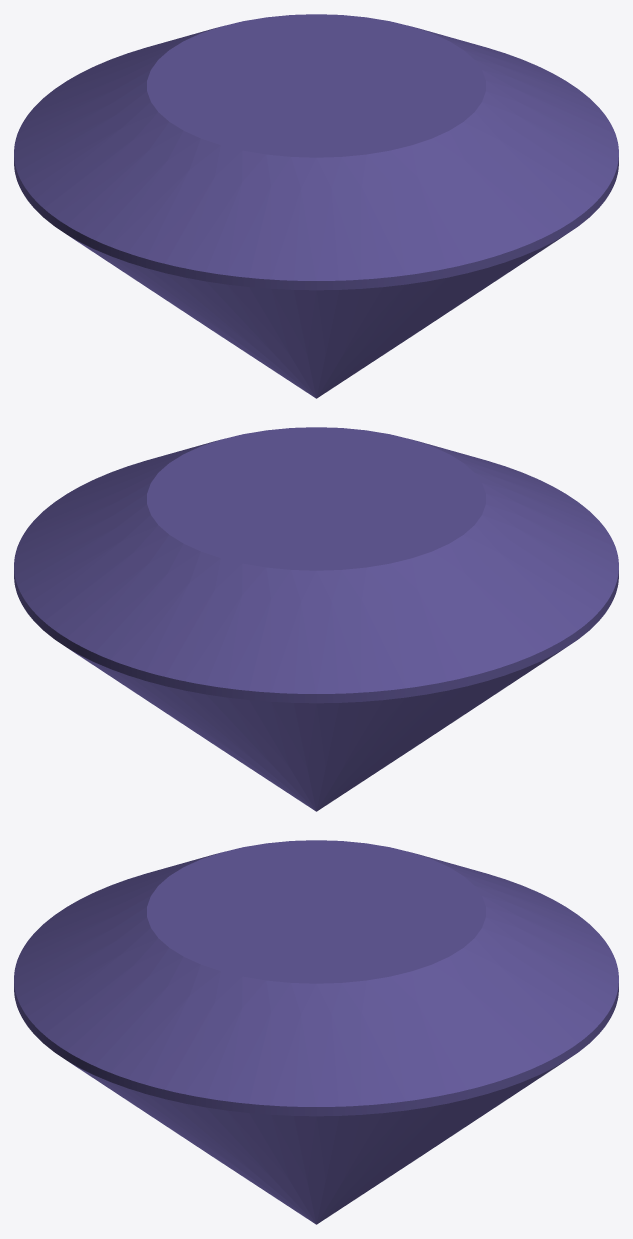
Rendered from Gem.gltf.
3 renders of one model, top to bottom at view 1: azimuth 30°, elevation 25°; view 2: azimuth 150°, elevation 25°; view 3: azimuth 270°, elevation 25°, orthographic.
Visible parts, largest first — view 1: Gem; view 2: Gem; view 3: Gem.
Boxes of the visible parts, <box> form: Gem: <box>14,14,618,398</box>; Gem: <box>14,427,618,811</box>; Gem: <box>14,840,618,1224</box>.
Bounding box in the file's own units: 2 × 1.14 × 2.
